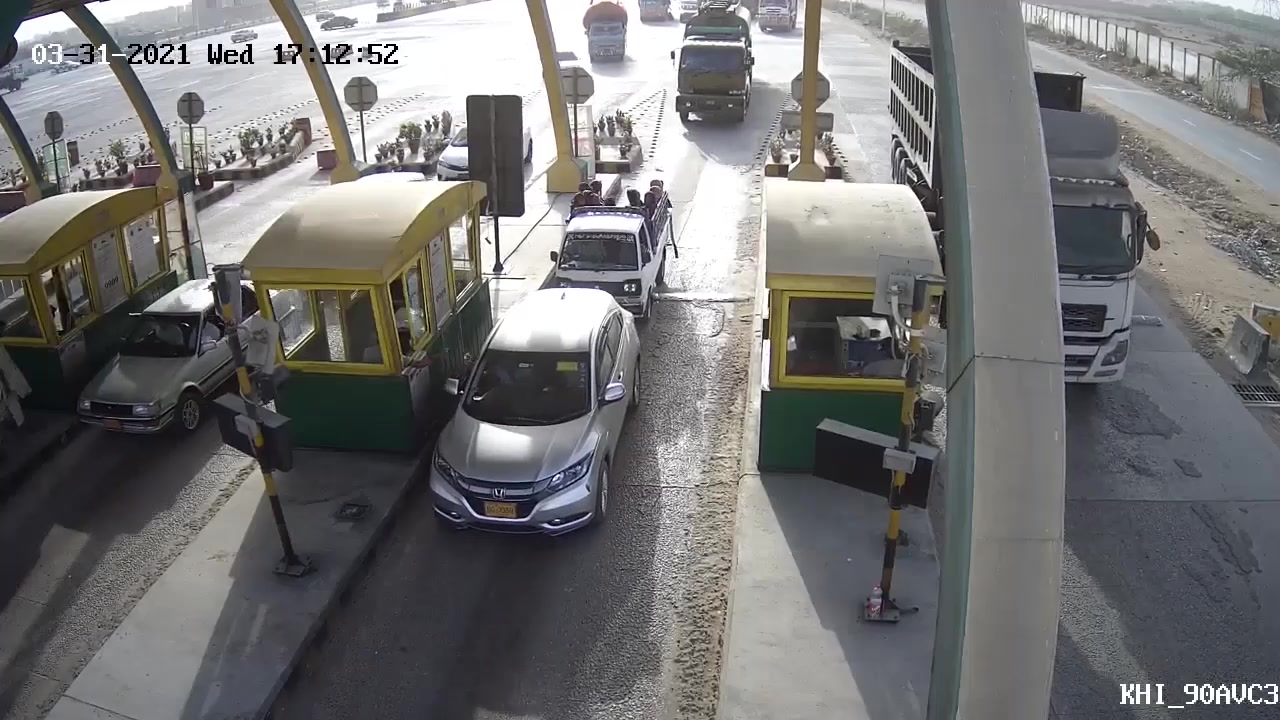F1: (428, 283, 646, 546), (549, 181, 681, 312)
